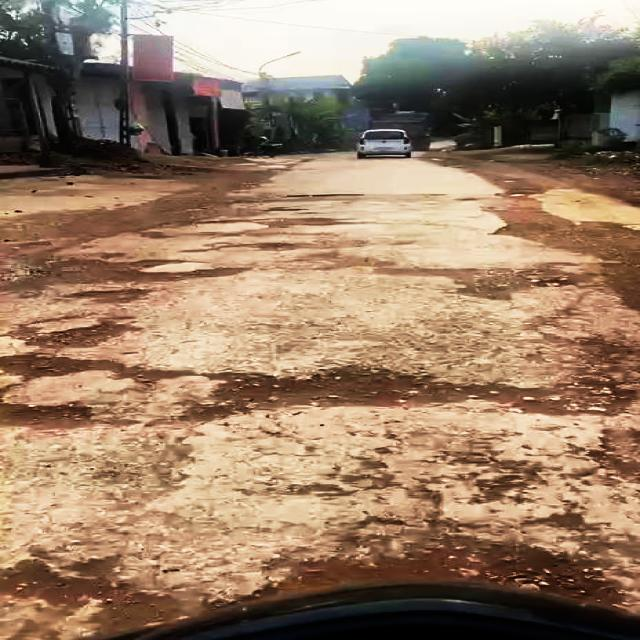pothole: (222, 528, 624, 616), (165, 352, 630, 419), (0, 311, 157, 433), (0, 540, 186, 640), (11, 252, 266, 291), (450, 262, 593, 303)
